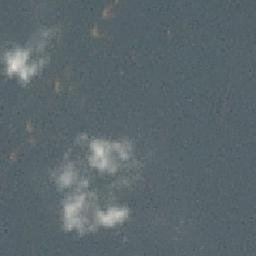cloud: (51, 134, 132, 238), (4, 33, 48, 88)
debris: (90, 3, 111, 40), (24, 121, 35, 145), (8, 149, 18, 167), (54, 76, 62, 95)
